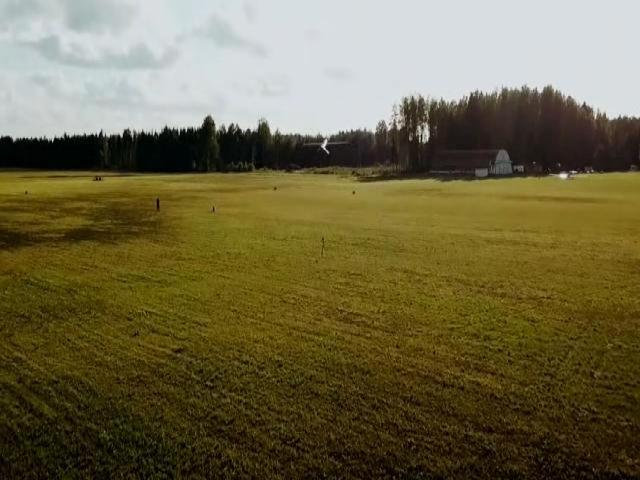iha: (304, 138, 348, 156)
